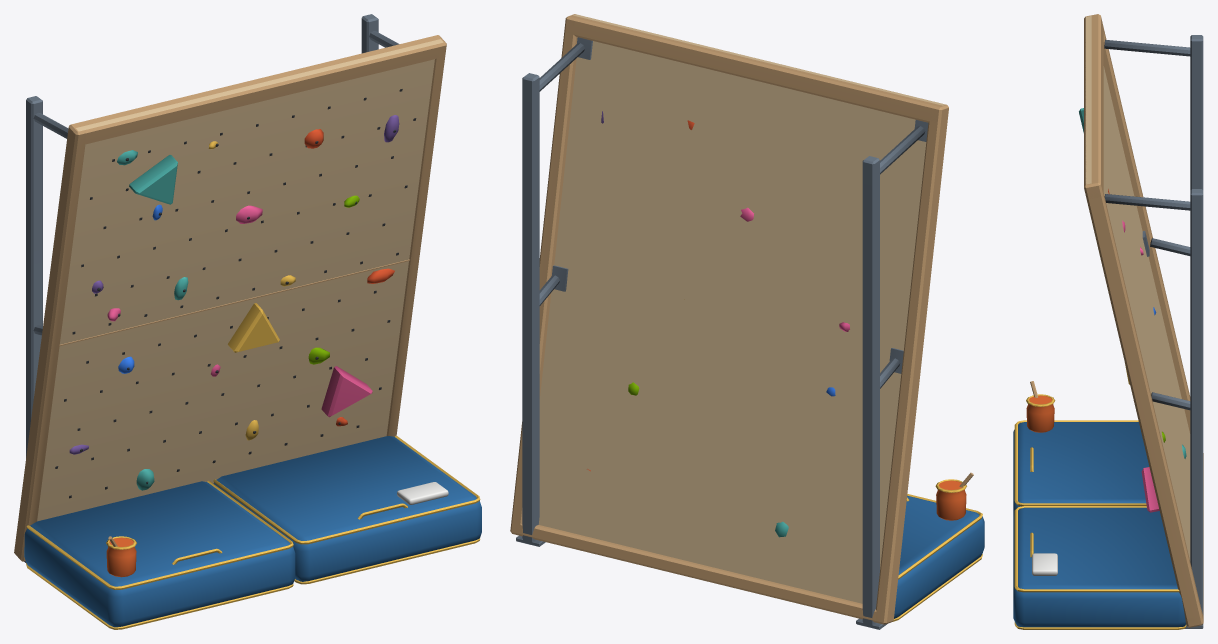
The model's file is boulderingWall.glb.
3 views of the same model, side by side, from view 1: azimuth 30°, elevation 25°; view 2: azimuth 150°, elevation 25°; view 3: azimuth 270°, elevation 25° (orthographic). The views are drawn at different scales.
Visible parts, largest first — view 1: boulderingWall; view 2: boulderingWall; view 3: boulderingWall.
Boxes of the visible parts, x1,y1,x2,y2 form: boulderingWall: [14, 14, 481, 629]; boulderingWall: [510, 14, 984, 629]; boulderingWall: [1013, 14, 1203, 629].
Size of the model in its own units: 1.87 by 2.28 by 0.8777.
